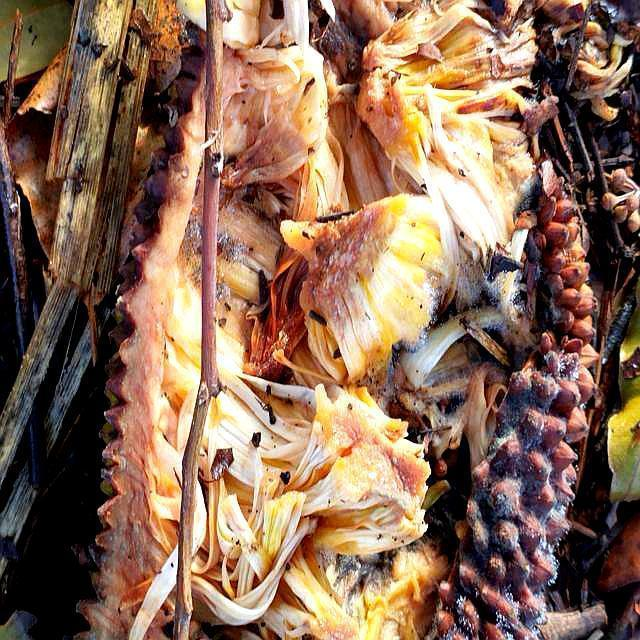Biodegradable: (89, 1, 597, 640)
